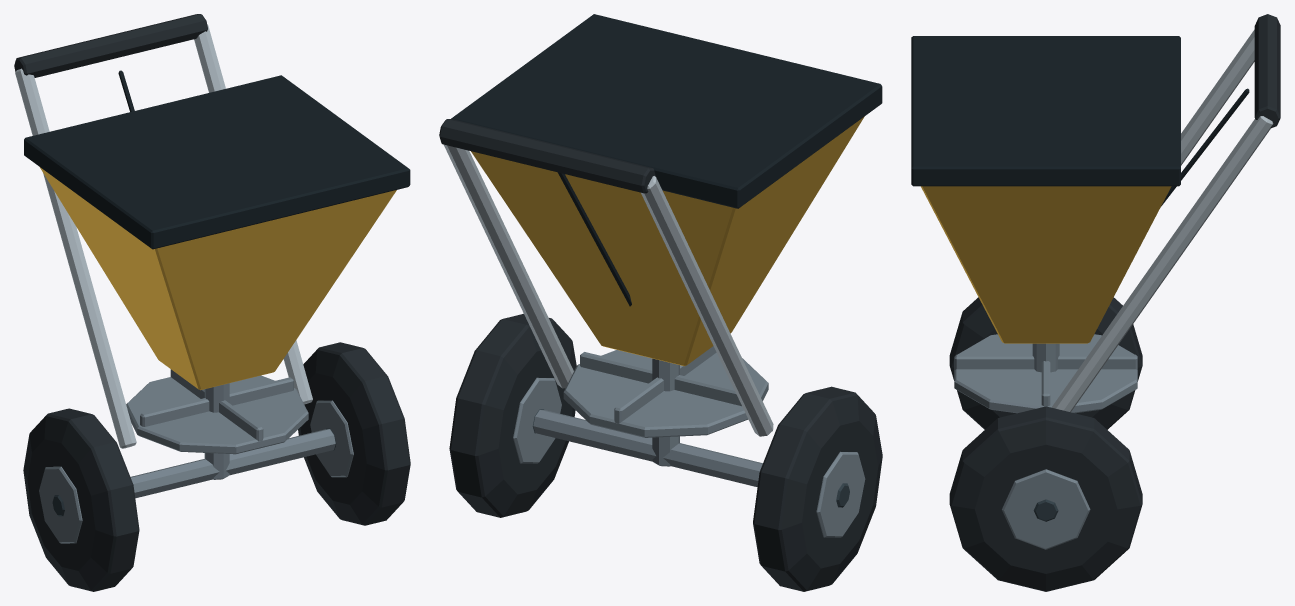
Rendered from b20_sidewalk_broadcast_salt_spreader.glb.
The picture shows the model from 3 angles, left to right: view 1: azimuth 30°, elevation 25°; view 2: azimuth 150°, elevation 25°; view 3: azimuth 270°, elevation 25°; orthographic projection. The views are drawn at different scales.
Visible parts, largest first — view 1: b20_sidewalk_broadcast_salt_spreader; view 2: b20_sidewalk_broadcast_salt_spreader; view 3: b20_sidewalk_broadcast_salt_spreader.
Part boxes in pixels (<box>): b20_sidewalk_broadcast_salt_spreader: <box>14,14,410,591</box>; b20_sidewalk_broadcast_salt_spreader: <box>439,14,882,591</box>; b20_sidewalk_broadcast_salt_spreader: <box>911,14,1280,591</box>.
Size of the model in its own units: 0.8 by 1.05 by 0.767.
